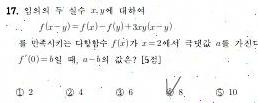choice: (163, 78, 176, 97)
not-choice: (14, 87, 25, 98), (64, 87, 75, 97), (114, 87, 125, 97), (214, 87, 225, 97)
